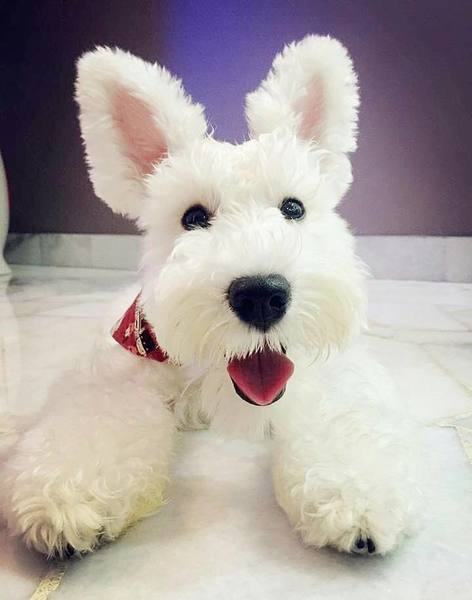dog: (61, 17, 400, 410)
